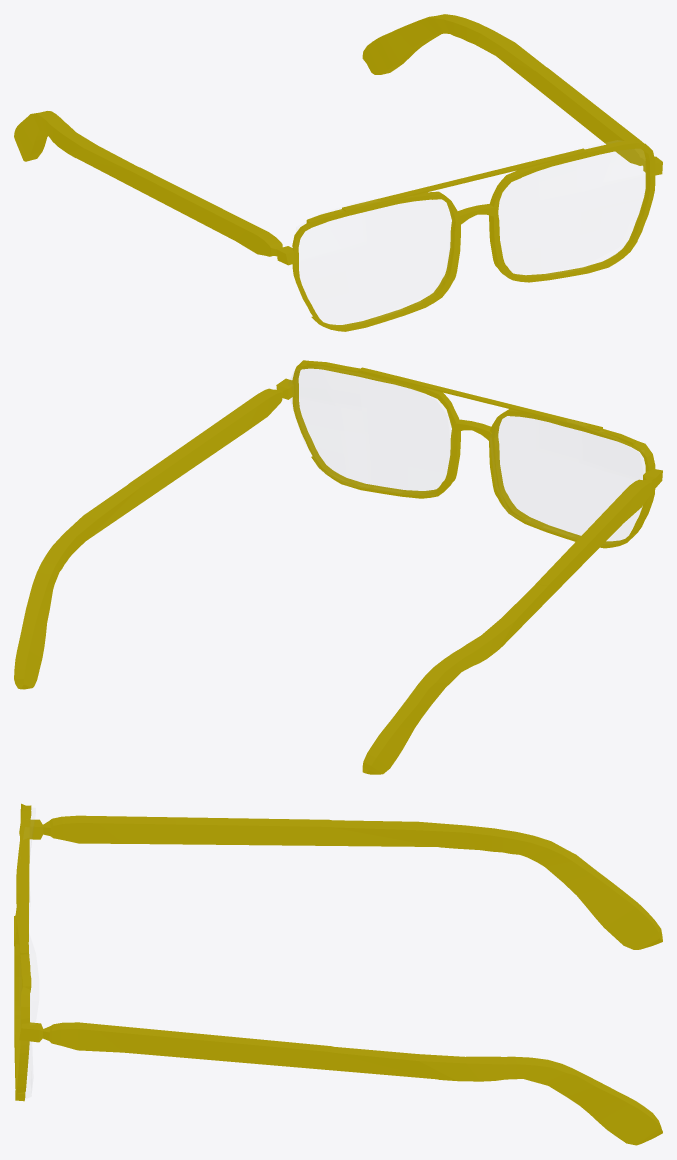
Rendered from 4-Gold.glb.
The picture shows the model from 3 angles, top to bottom: view 1: azimuth 30°, elevation 25°; view 2: azimuth 150°, elevation 25°; view 3: azimuth 270°, elevation 25°; orthographic projection. The views are drawn at different scales.
Parts seen in each view (by area): view 1: frameEnd.002; view 2: frameEnd.002; view 3: frameEnd.002.
Boxes of the visible parts, <box> form: frameEnd.002: <box>14,14,662,331</box>; frameEnd.002: <box>14,360,662,774</box>; frameEnd.002: <box>14,803,662,1145</box>.
Size of the model in its own units: 2.22 by 0.6731 by 2.55.
